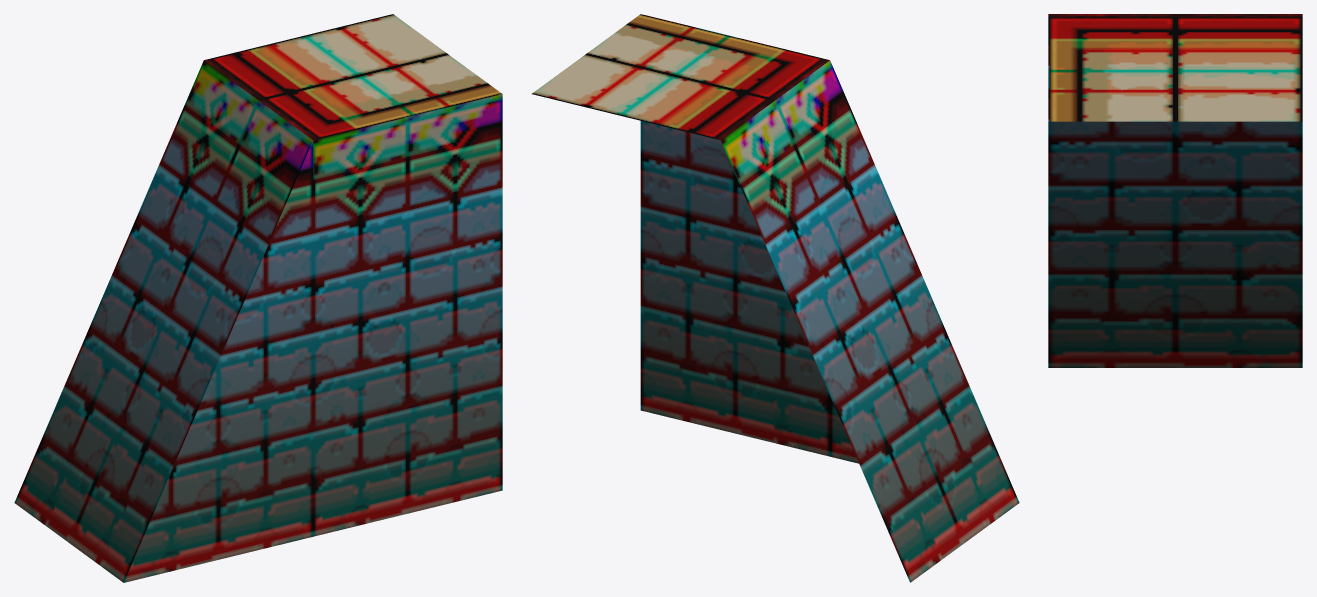
The model's file is arch_cathedral_wall_edge_B.FBX.
3 views of the same model, side by side, from view 1: azimuth 30°, elevation 25°; view 2: azimuth 150°, elevation 25°; view 3: azimuth 270°, elevation 25° (orthographic). The views are drawn at different scales.
Visible parts, largest first — view 1: arch_cathedral_wall_edge_B; view 2: arch_cathedral_wall_edge_B; view 3: arch_cathedral_wall_edge_B.
Boxes of the visible parts, bbox=[...] form: arch_cathedral_wall_edge_B: bbox=[14, 14, 502, 582]; arch_cathedral_wall_edge_B: bbox=[532, 14, 1019, 582]; arch_cathedral_wall_edge_B: bbox=[1048, 14, 1302, 367].
Bounding box in the file's own units: 4 × 4 × 2.
1 material, 1 textured.
